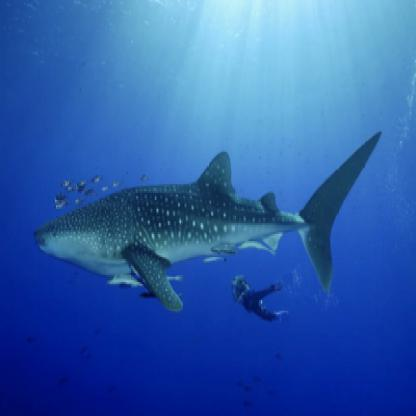shark: (29, 126, 386, 322)
